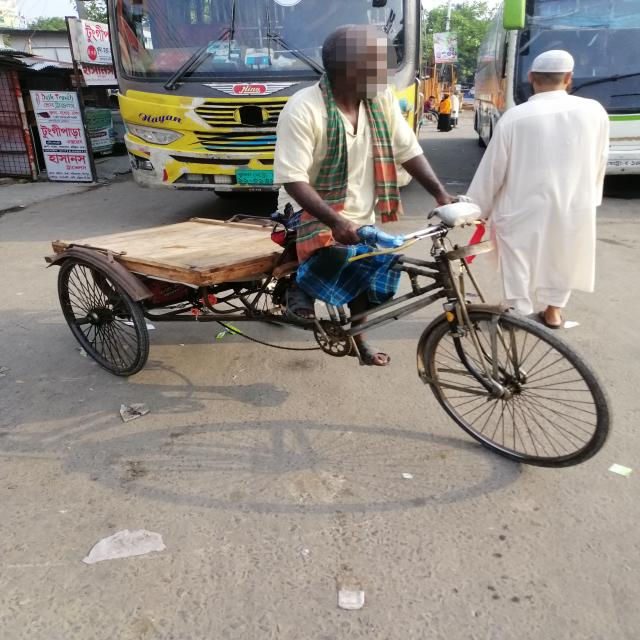Van: (42, 215, 619, 483)
